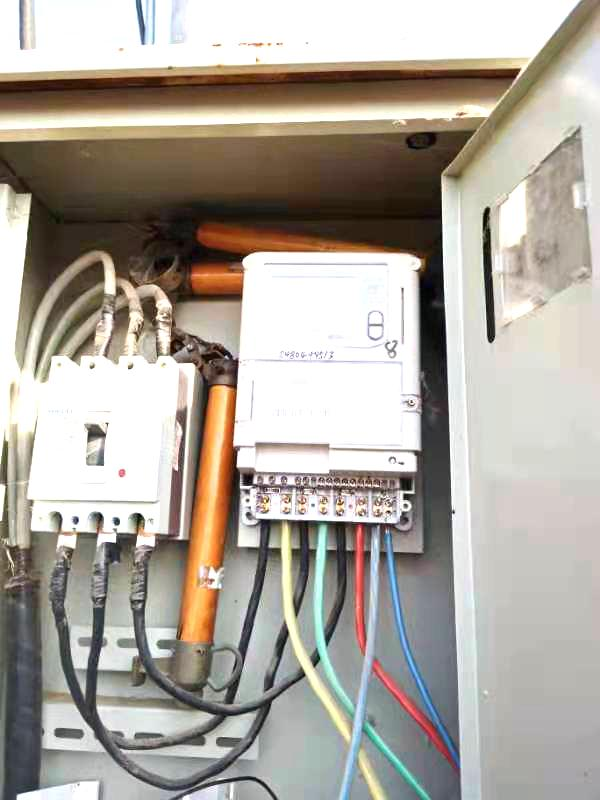digital: (233, 249, 422, 452)
